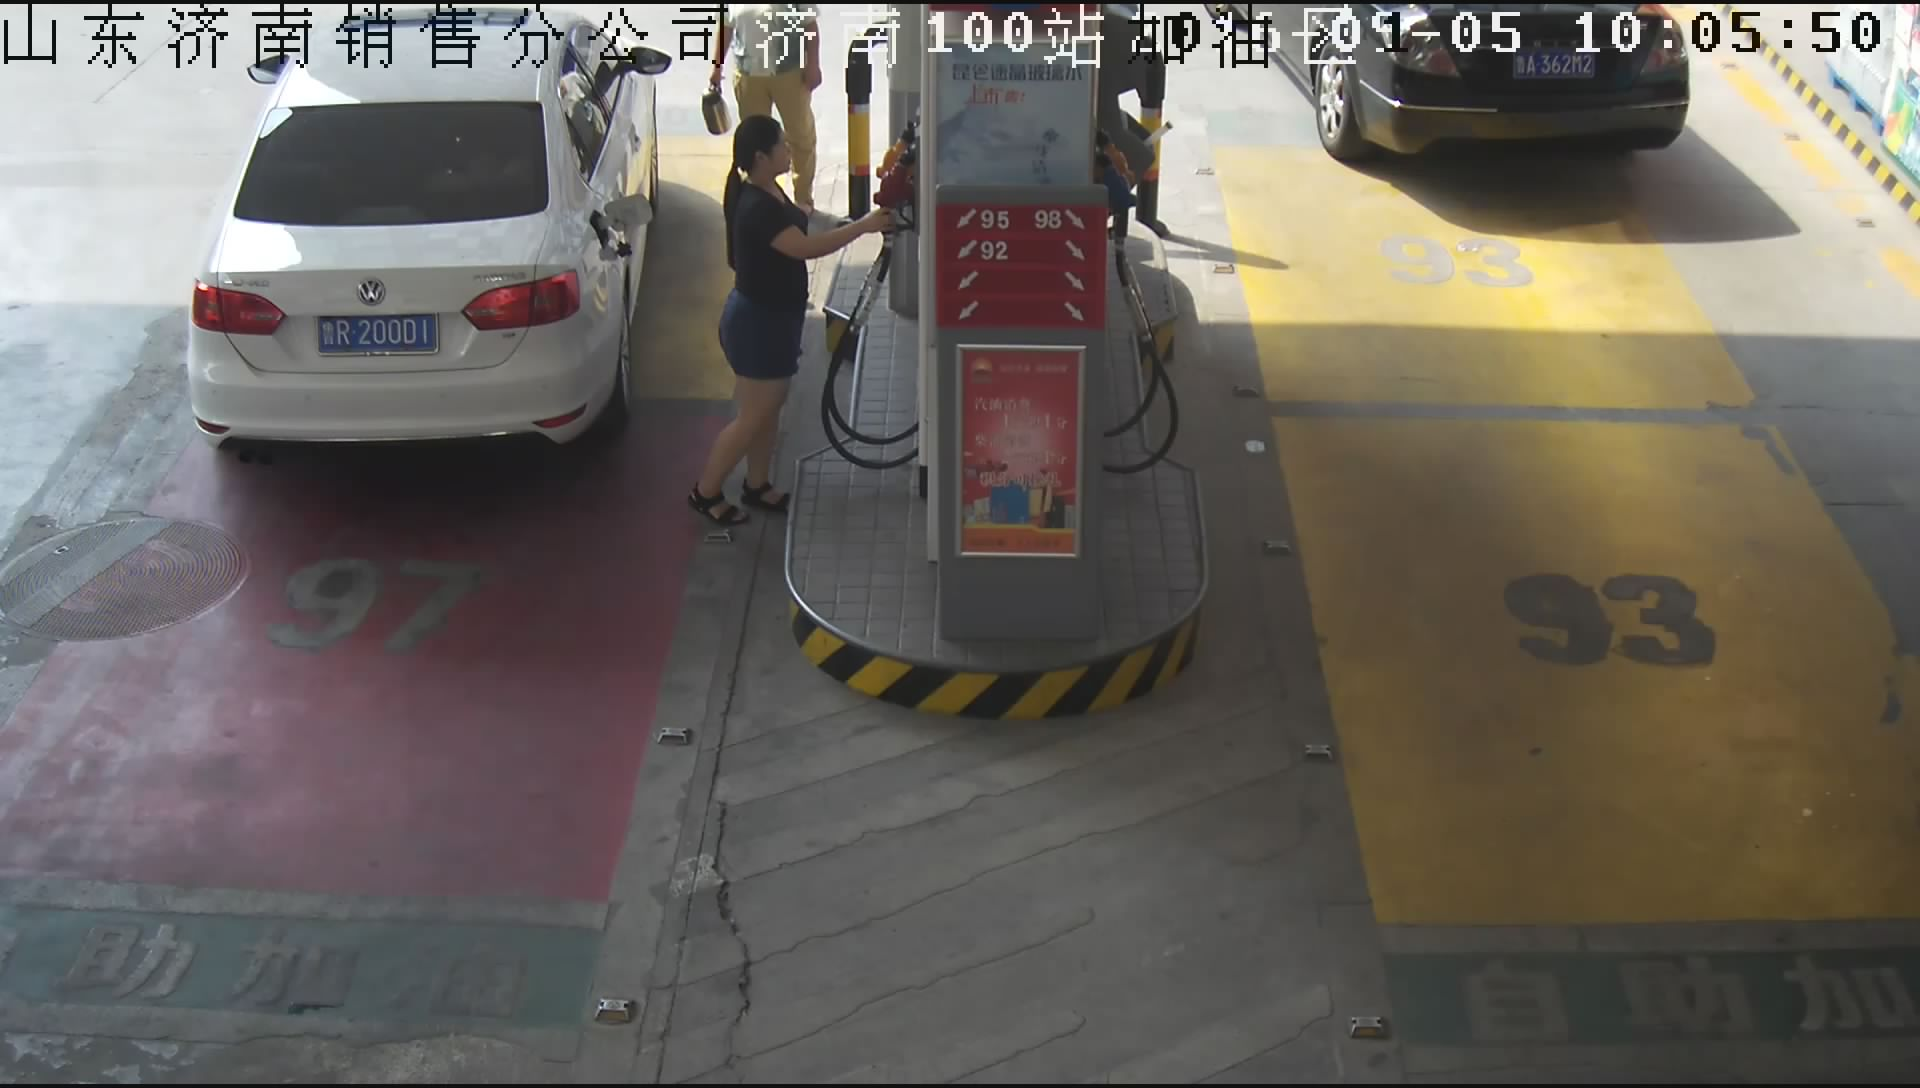blue: (314, 313, 440, 359)
